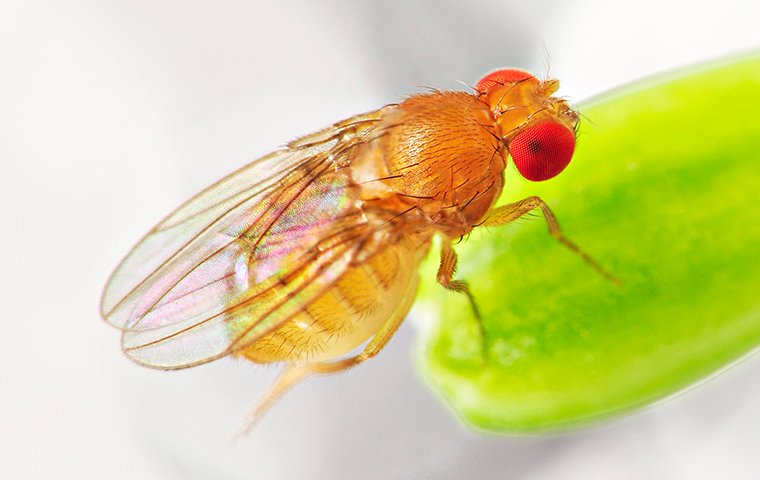Fruit fly: (87, 60, 577, 425)
